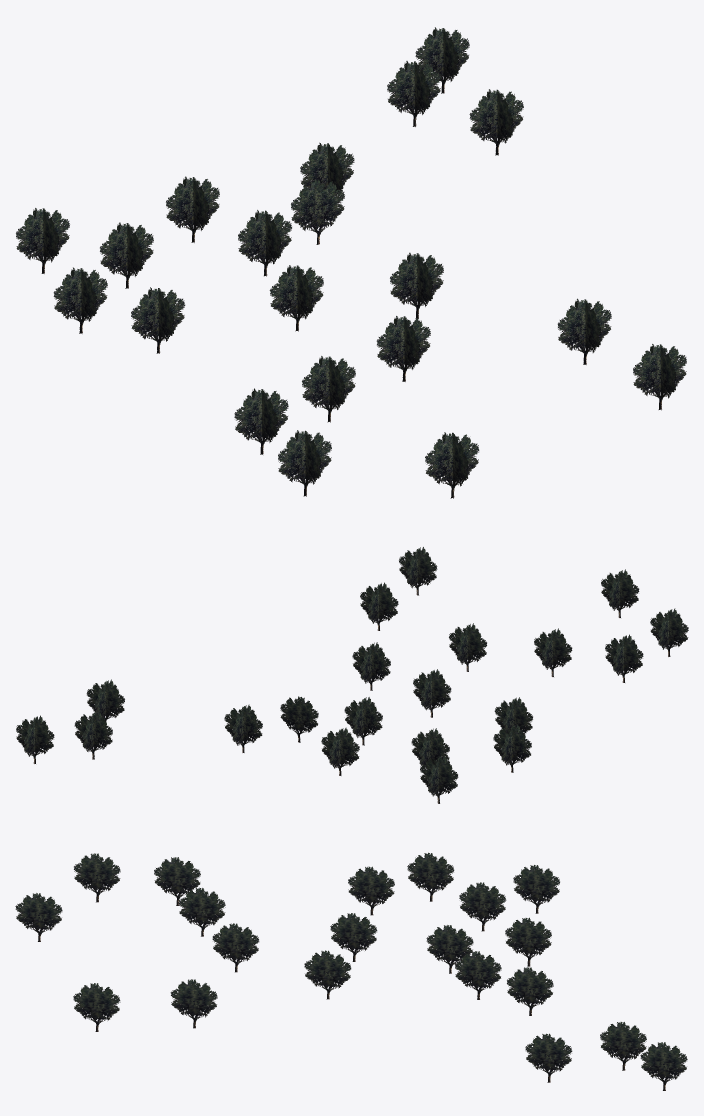
Rendered from planeTree20.FBX.
3 renders of one model, top to bottom at view 1: azimuth 30°, elevation 25°; view 2: azimuth 150°, elevation 25°; view 3: azimuth 270°, elevation 25°, orthographic. The views are drawn at different scales.
Parts seen in each view (by area): view 1: planeTree20; view 2: planeTree20; view 3: planeTree20.
Part boxes in pixels (left/top/right/bottom): planeTree20: left=16, top=27, right=686, bottom=498; planeTree20: left=16, top=547, right=688, bottom=803; planeTree20: left=15, top=852, right=687, bottom=1090.
Size of the model in its own units: 3994 by 441 by 5415.
